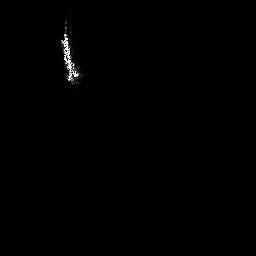ship: (55, 29, 85, 86)
